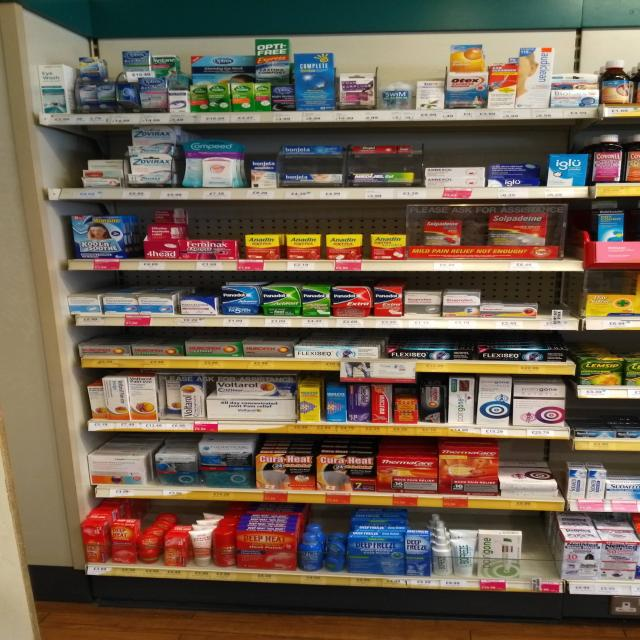void: (528, 528, 562, 594), (540, 284, 572, 329)
